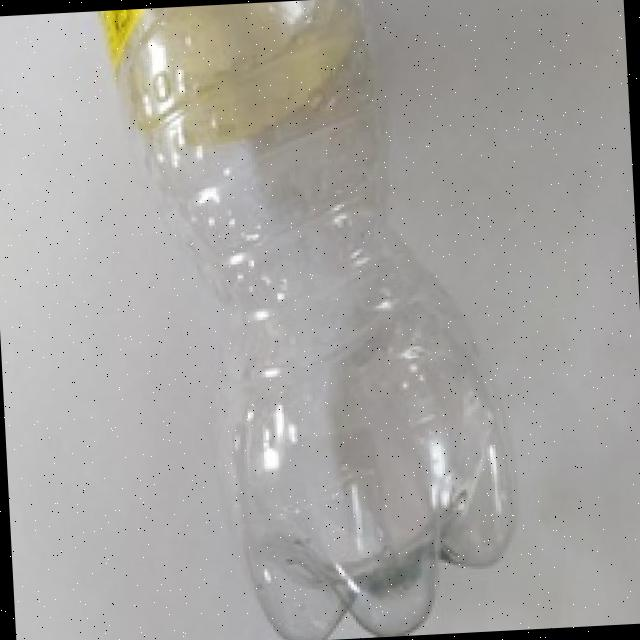bottle: (91, 0, 534, 640)
